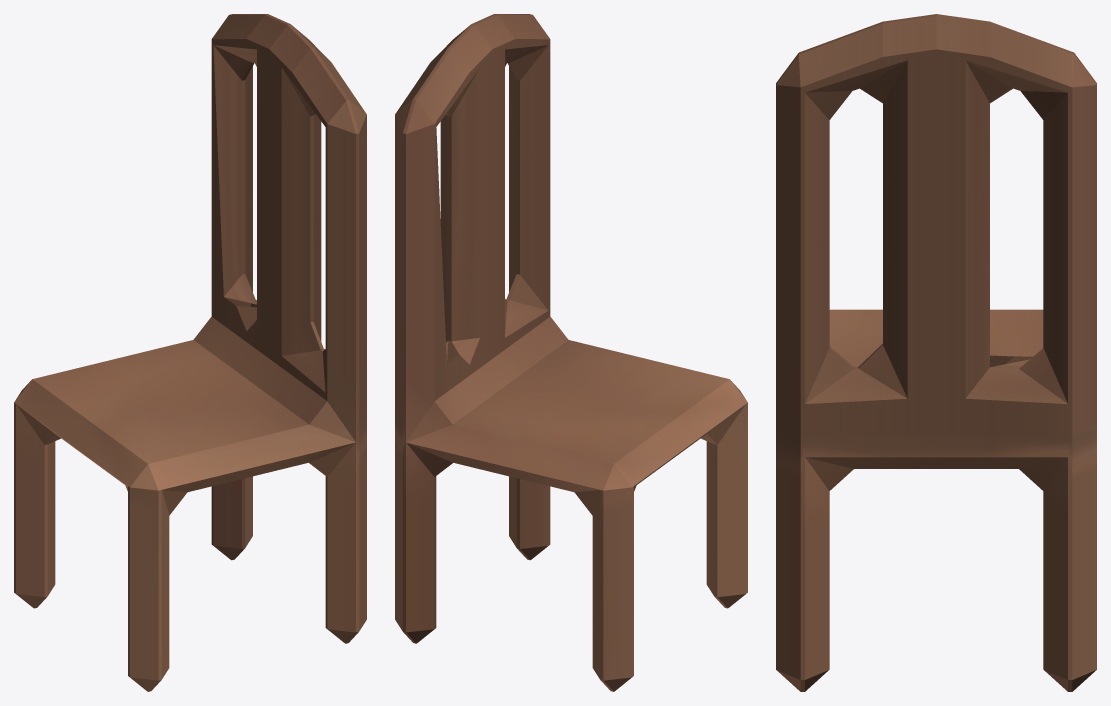
File: Simple_Chair.fbx
3 renders of one model, left to right at view 1: azimuth 30°, elevation 25°; view 2: azimuth 150°, elevation 25°; view 3: azimuth 270°, elevation 25°, orthographic. The views are drawn at different scales.
Visible parts, largest first — view 1: Cube.001; view 2: Cube.001; view 3: Cube.001.
Part boxes in pixels (left/top/right/bottom): Cube.001: left=14, top=14, right=366, bottom=691; Cube.001: left=395, top=14, right=747, bottom=691; Cube.001: left=776, top=14, right=1096, bottom=691.
Bounding box in the file's own units: 1.08 × 1.08 × 2.52.
Materials: 1 (1 with a texture image).
